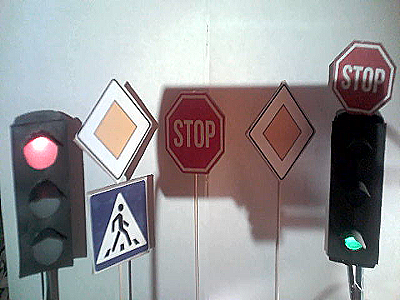crosswalk: (91, 185, 149, 263)
priority_road: (77, 80, 151, 178), (250, 87, 315, 180)
stop: (164, 95, 223, 173), (336, 43, 392, 113)
trafficlight_green: (328, 119, 379, 261)
trafficlight_red: (14, 121, 67, 267)
